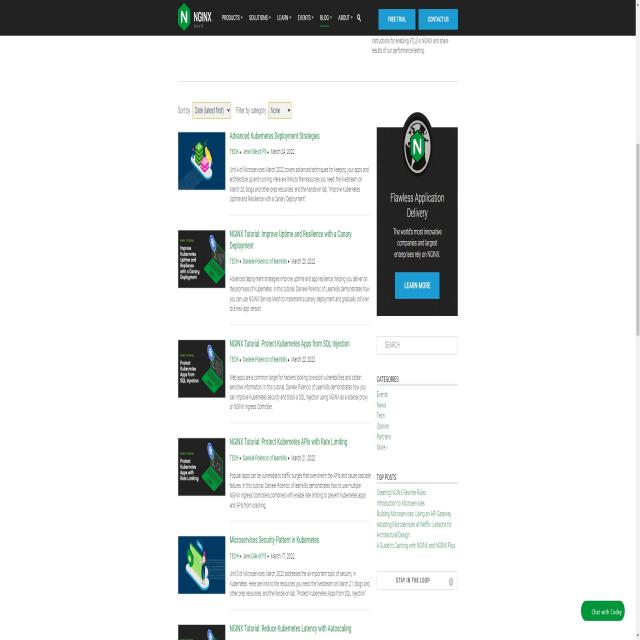menu-bar: (378, 7, 458, 34)
search: (376, 335, 459, 355)
side-panel: (376, 326, 460, 592)
tab-bar: (216, 1, 368, 32)
